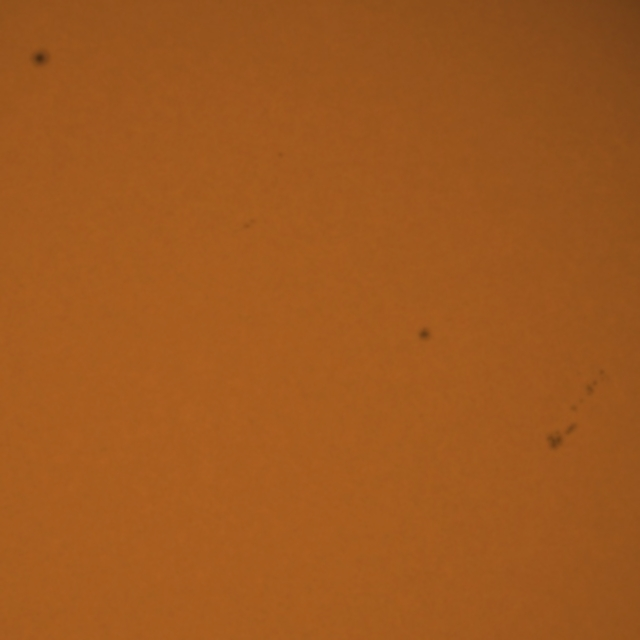sunspot: (568, 378, 600, 415), (544, 420, 578, 453), (583, 368, 606, 400), (28, 48, 51, 70), (416, 325, 434, 344), (240, 216, 258, 232), (276, 150, 286, 160)
